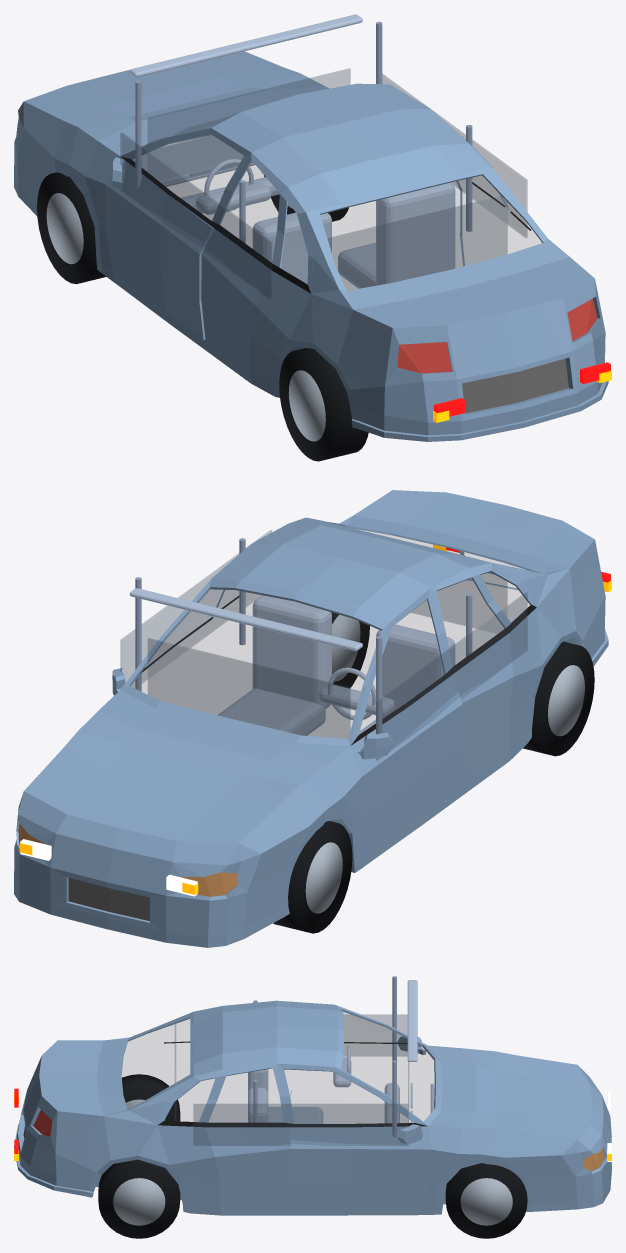
Rendered from sedan.glb.
The picture shows the model from 3 angles, top to bottom: view 1: azimuth 30°, elevation 25°; view 2: azimuth 150°, elevation 25°; view 3: azimuth 270°, elevation 25°; orthographic projection. The views are drawn at different scales.
Visible parts, largest first — view 1: BODY, GLASS_REAR, GLASS_LEFT, SEAT_PASSENGER_BACK, GLASS_FRONT, WHEEL_RL_TIRE, WHEEL_FL_TIRE, COCKPIT_HOOD, SEAT_DRIVER_BACK, ROOF_LINING, GLASS_RIGHT, WHEEL_FL_RIM (+4 smaller); view 2: BODY, GLASS_FRONT, GLASS_LEFT, SEAT_PASSENGER_BACK, SEAT_DRIVER_BACK, GLASS_RIGHT, WHEEL_FL_TIRE, WHEEL_RL_TIRE, SEAT_PASSENGER_BASE, GLASS_REAR, ROOF_LINING, WHEEL_FL_RIM (+6 smaller); view 3: BODY, GLASS_RIGHT, WHEEL_RR_TIRE, WHEEL_FR_TIRE, GLASS_LEFT, WHEEL_FR_RIM, WHEEL_RR_RIM, WHEEL_RL_TIRE, ROOF_LINING, SEAT_DRIVER_BASE, SEAT_PASSENGER_BACK, INNER_A_PILLAR_L (+3 smaller).
Part boxes in pixels (bbox=[...]): BODY: bbox=[14, 51, 608, 441]; GLASS_REAR: bbox=[327, 196, 507, 290]; GLASS_LEFT: bbox=[120, 132, 271, 300]; SEAT_PASSENGER_BACK: bbox=[376, 182, 455, 285]; GLASS_FRONT: bbox=[148, 68, 350, 178]; WHEEL_RL_TIRE: bbox=[279, 348, 368, 461]; WHEEL_FL_TIRE: bbox=[37, 172, 105, 284]; COCKPIT_HOOD: bbox=[132, 135, 255, 186]; SEAT_DRIVER_BACK: bbox=[252, 212, 331, 284]; ROOF_LINING: bbox=[129, 14, 362, 77]; GLASS_RIGHT: bbox=[382, 74, 527, 237]; WHEEL_FL_RIM: bbox=[46, 193, 83, 264]; BODY: bbox=[14, 490, 608, 947]; GLASS_FRONT: bbox=[148, 638, 350, 738]; GLASS_LEFT: bbox=[376, 592, 527, 760]; SEAT_PASSENGER_BACK: bbox=[252, 595, 331, 708]; SEAT_DRIVER_BACK: bbox=[376, 624, 455, 718]; GLASS_RIGHT: bbox=[120, 530, 271, 687]; WHEEL_FL_TIRE: bbox=[273, 821, 352, 933]; WHEEL_RL_TIRE: bbox=[523, 641, 594, 756]; SEAT_PASSENGER_BASE: bbox=[218, 688, 325, 735]; GLASS_REAR: bbox=[411, 572, 507, 628]; ROOF_LINING: bbox=[129, 588, 362, 651]; WHEEL_FL_RIM: bbox=[305, 842, 342, 913]; BODY: bbox=[14, 1000, 611, 1215]; GLASS_RIGHT: bbox=[193, 1104, 408, 1145]; WHEEL_RR_TIRE: bbox=[98, 1159, 180, 1238]; WHEEL_FR_TIRE: bbox=[445, 1163, 527, 1238]; GLASS_LEFT: bbox=[344, 1014, 407, 1056]; WHEEL_FR_RIM: bbox=[460, 1178, 512, 1225]; WHEEL_RR_RIM: bbox=[113, 1178, 165, 1225]; WHEEL_RL_TIRE: bbox=[122, 1074, 180, 1121]; ROOF_LINING: bbox=[407, 980, 417, 1061]; SEAT_DRIVER_BASE: bbox=[268, 1107, 323, 1123]; SEAT_PASSENGER_BACK: bbox=[248, 1087, 268, 1122]; INNER_A_PILLAR_L: bbox=[392, 976, 396, 1060].
Size of the model in its own units: 1.82 by 1.51 by 4.68.
